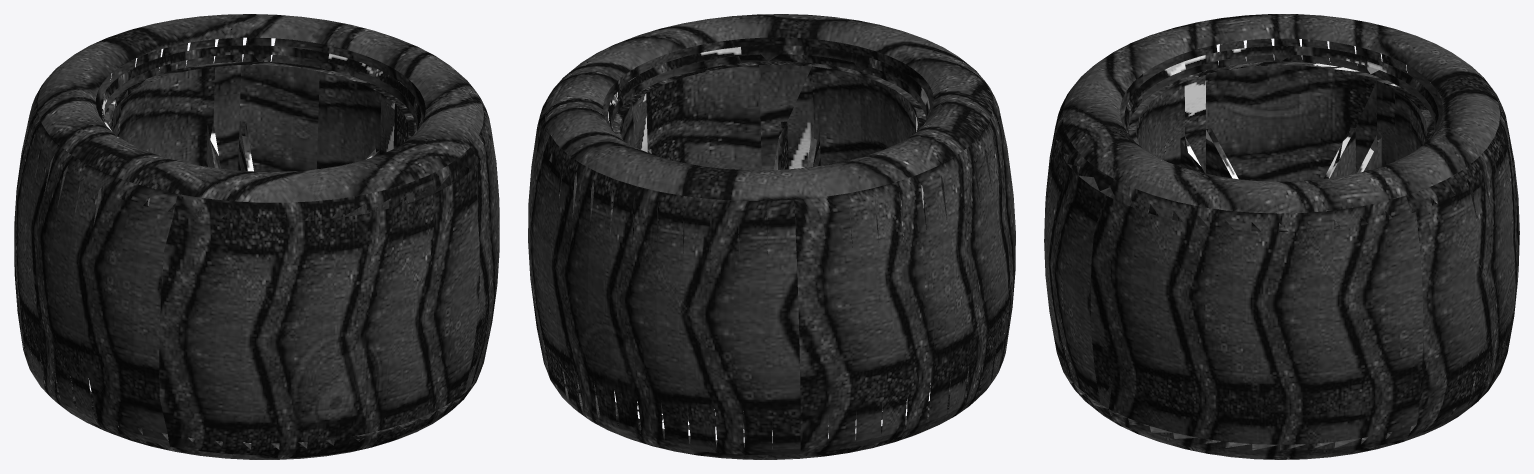
File: wheel_rb.dae
3 renders of one model, left to right at view 1: azimuth 30°, elevation 25°; view 2: azimuth 150°, elevation 25°; view 3: azimuth 270°, elevation 25°, orthographic. The views are drawn at different scales.
Parts seen in each view (by area): view 1: wheel_rb; view 2: wheel_rb; view 3: wheel_rb.
Boxes of the visible parts, <box> form: wheel_rb: <box>14,14,499,459</box>; wheel_rb: <box>528,14,1015,459</box>; wheel_rb: <box>1044,14,1519,459</box>.
Size of the model in its own units: 0.1573 by 0.1574 by 0.1033.
1 material, 1 textured.
